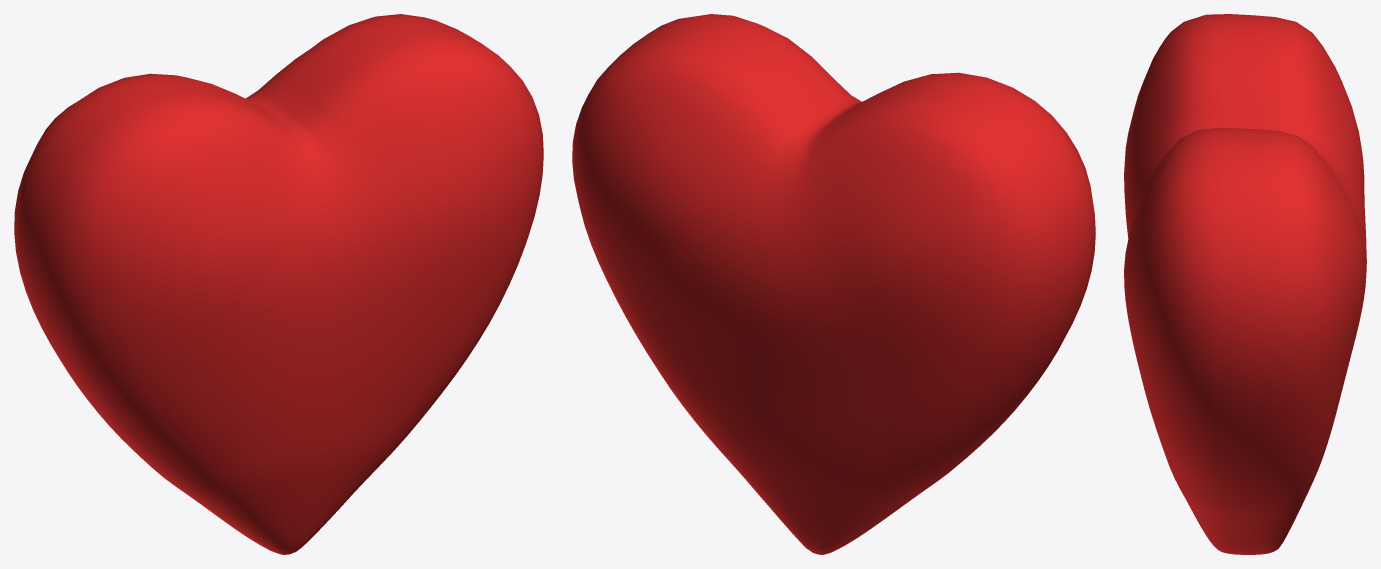
File: heart.glb
3 renders of one model, left to right at view 1: azimuth 30°, elevation 25°; view 2: azimuth 150°, elevation 25°; view 3: azimuth 270°, elevation 25°, orthographic. The views are drawn at different scales.
Visible parts, largest first — view 1: Group8879; view 2: Group8879; view 3: Group8879.
Part boxes in pixels (x1=…): Group8879: x1=14, y1=14, x2=543, y2=554; Group8879: x1=572, y1=14, x2=1095, y2=554; Group8879: x1=1124, y1=14, x2=1366, y2=554.
Size of the model in its own units: 0.5365 by 0.5117 by 0.2402.
